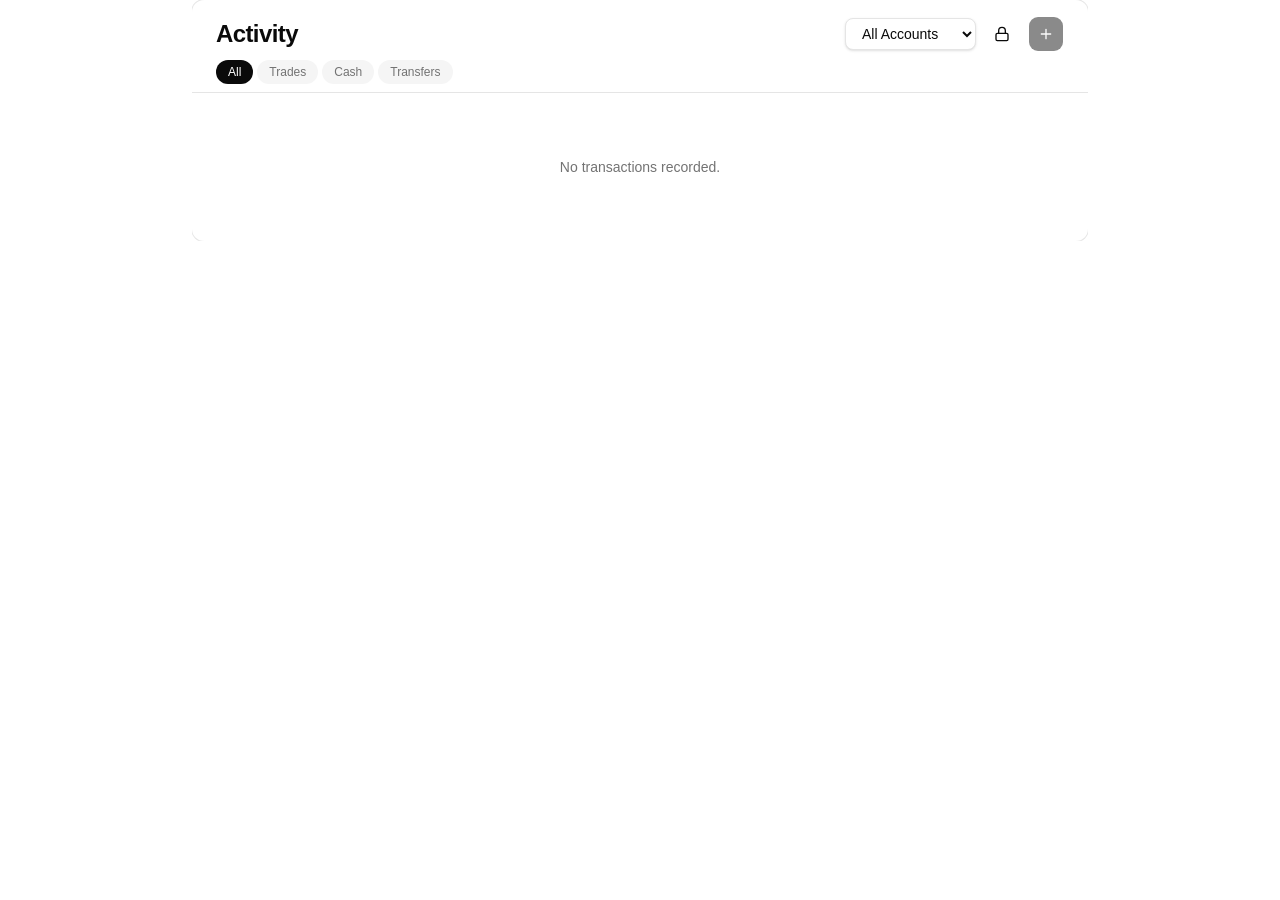
it: ActivityPage › handles create deposit via modal
Step 1. Select "Main Account" in the dropdown named "Account:" → [910, 34], box [845,18,976,50]
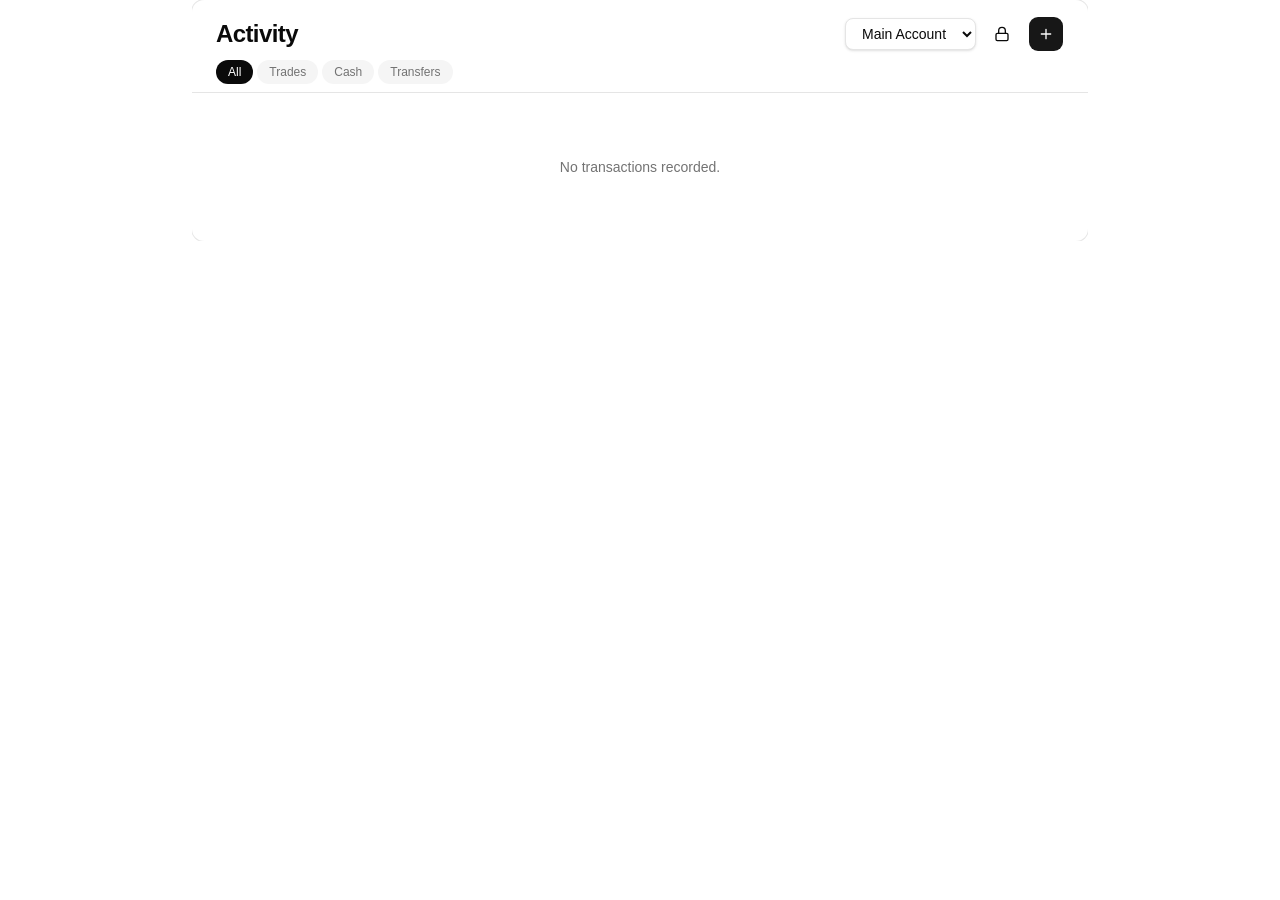
Step 2. Click the button named "Add Activity" → [1046, 34], box [1028,16,1064,52]
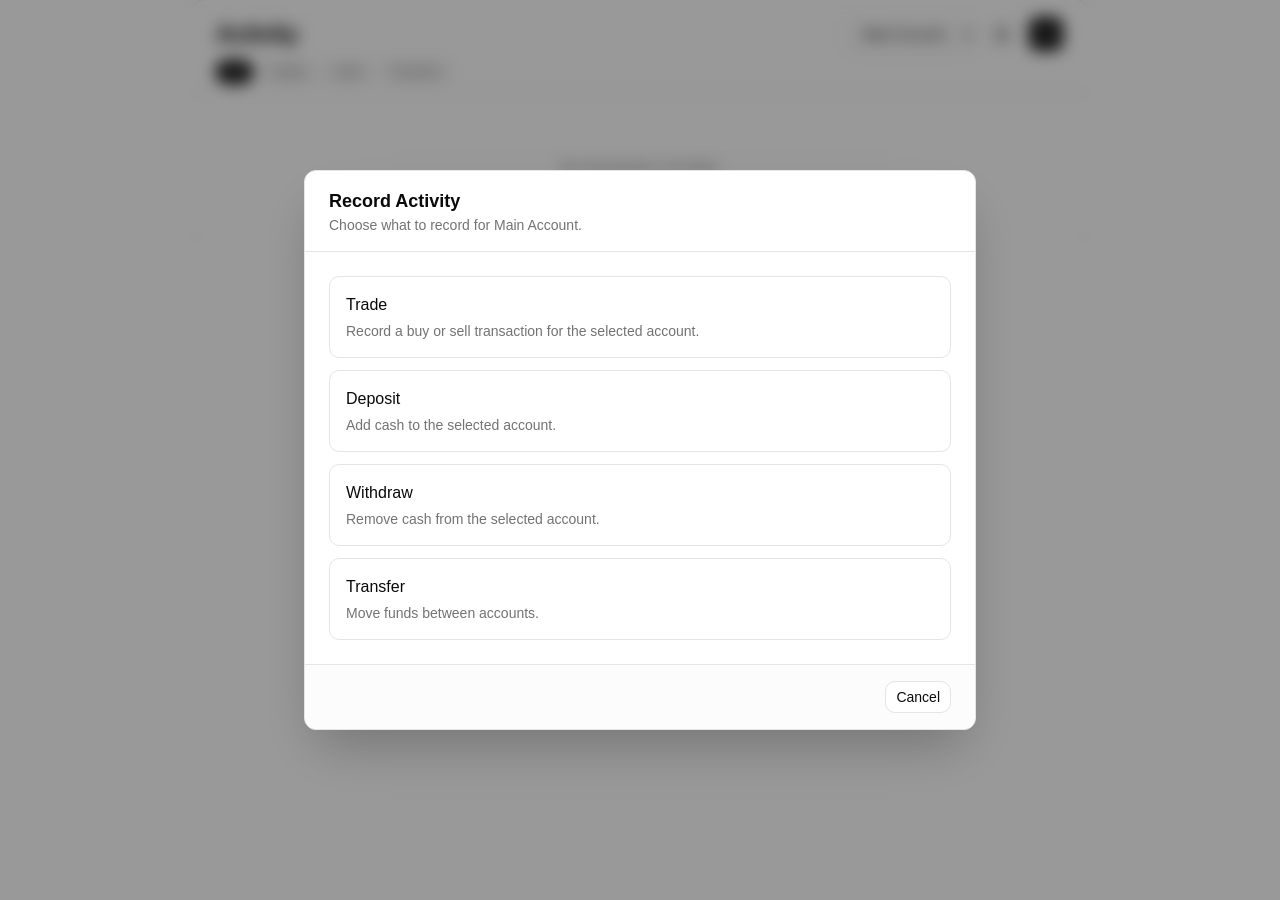
Step 3. Click the button "Deposit Add cash to the selected account." → [373, 398], box [329,370,951,452]
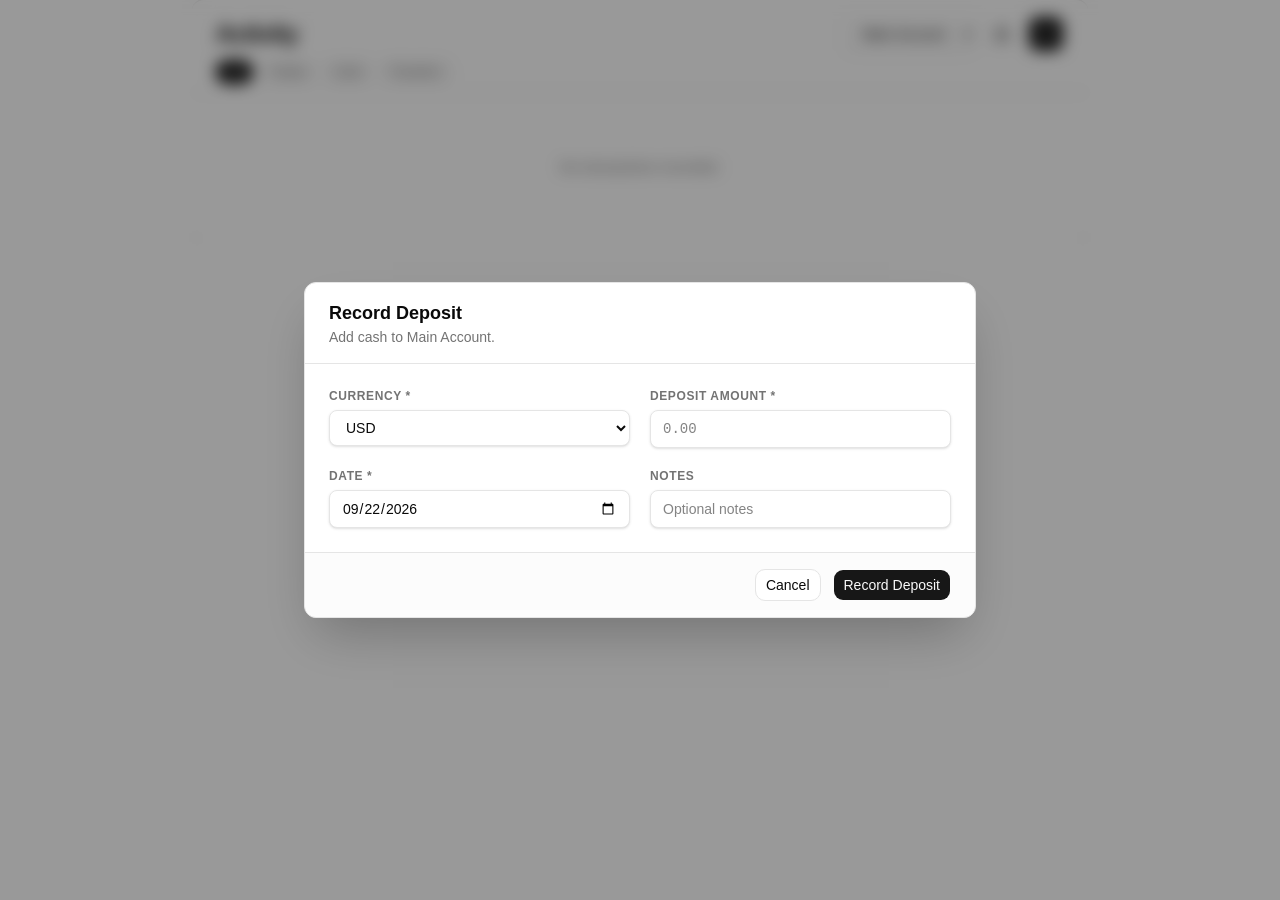
Expected: the heading "Record Deposit" is shown, [329,303,462,323]
Step 4. Type "250" into the number field labelled "Deposit Amount *" → [800, 429], box [650,410,951,448]
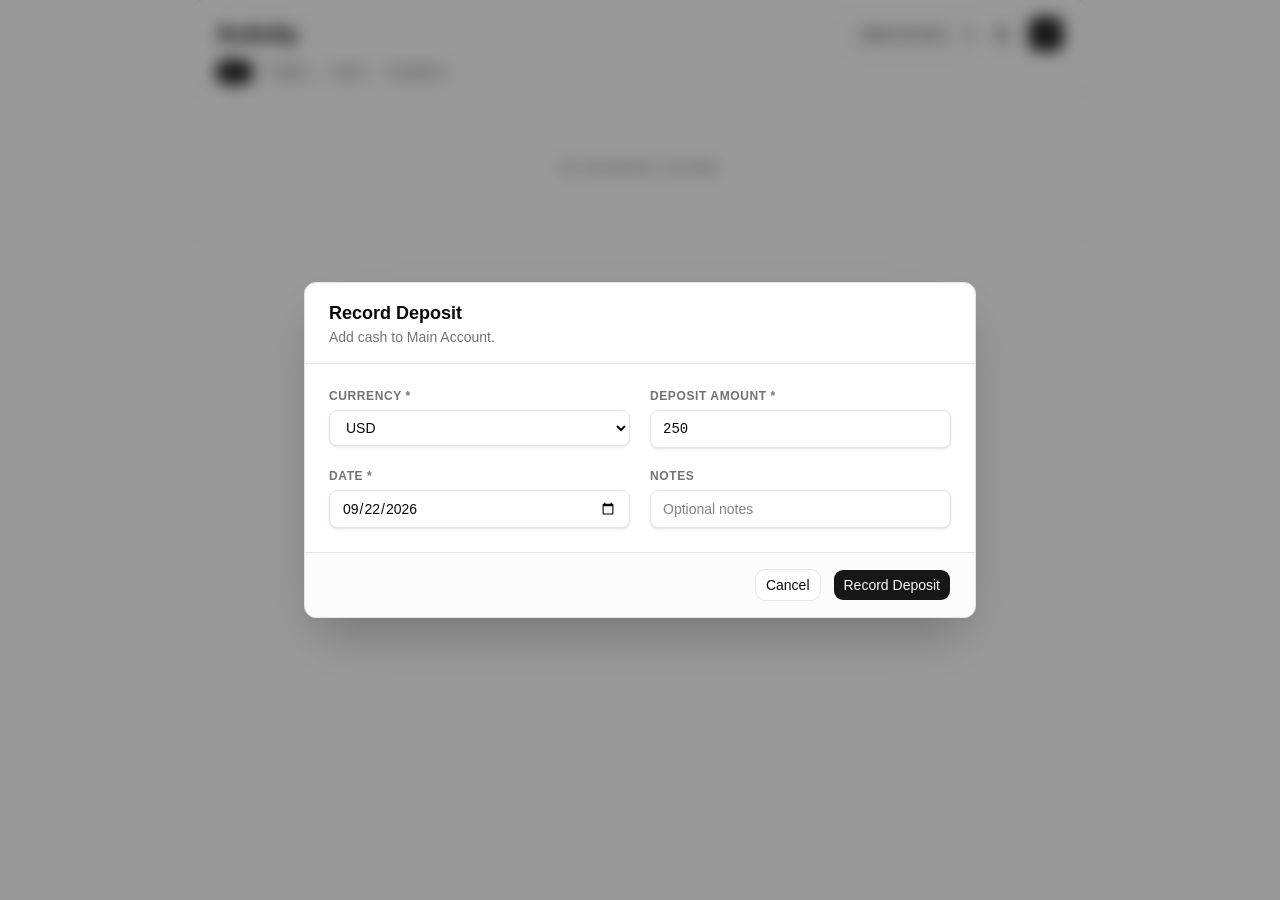
Step 5. Click the button "Record Deposit" → [892, 585], box [832,569,951,601]
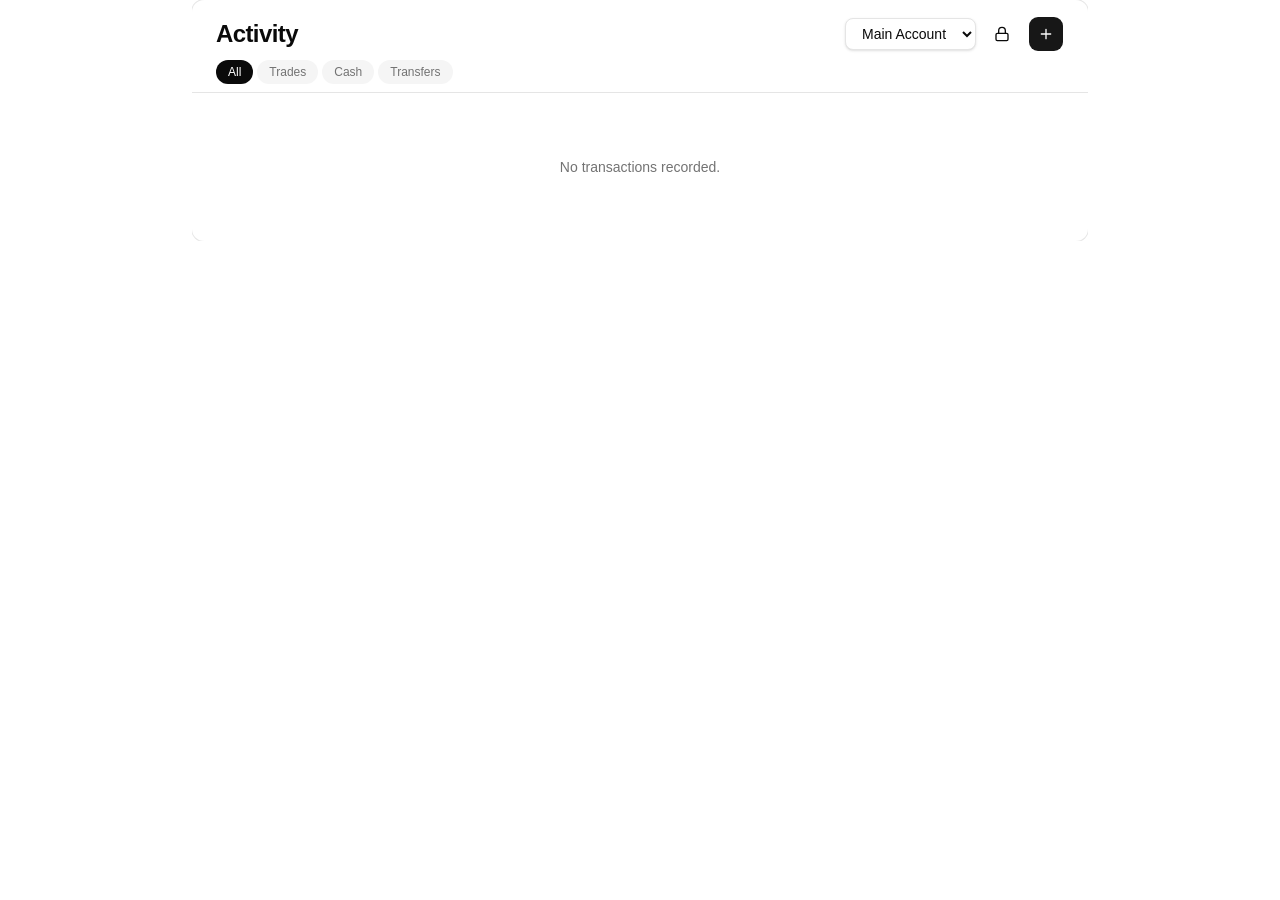
Expected: the dialog is gone
